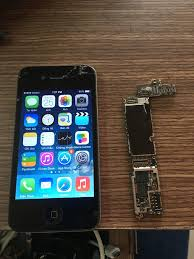iphone: (7, 64, 103, 238)
iphone4: (8, 64, 104, 238)
